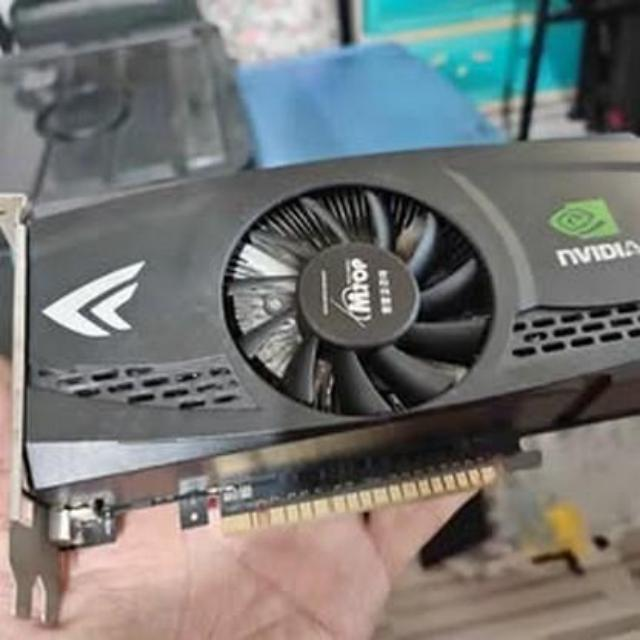GPU: (20, 130, 640, 562)
